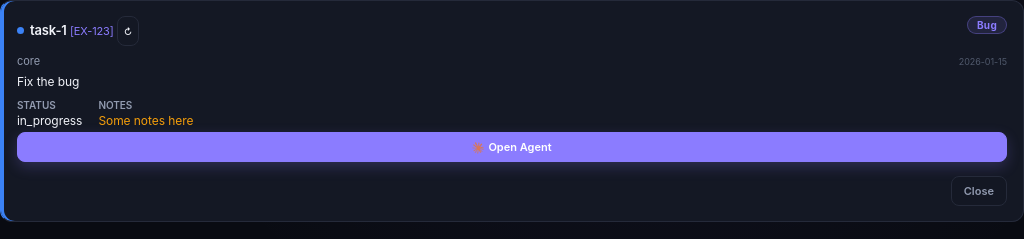
it: TaskCard interactions › sync button shows "up to date" when no change
Click the button with test id "sync-btn" at point(128, 31), box [117, 16, 139, 46]
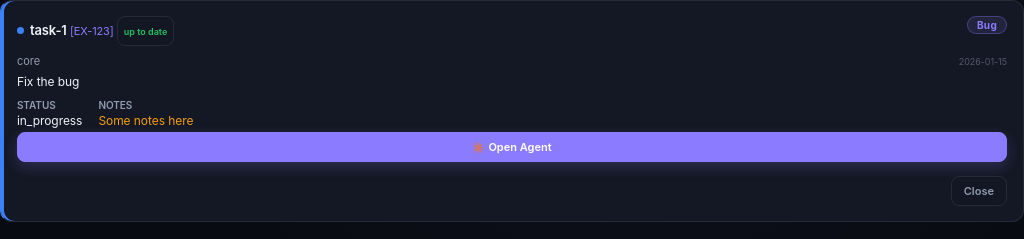
Expected: the button with test id "sync-btn" reads "up to date", [117, 16, 174, 46]
